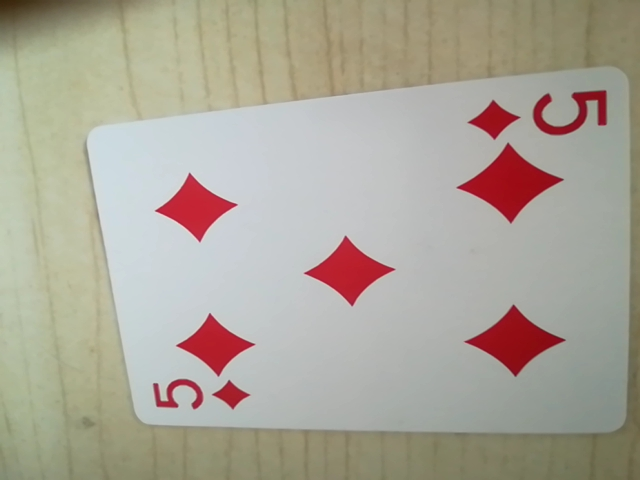fk 5: (468, 83, 611, 149), (148, 369, 253, 421)
